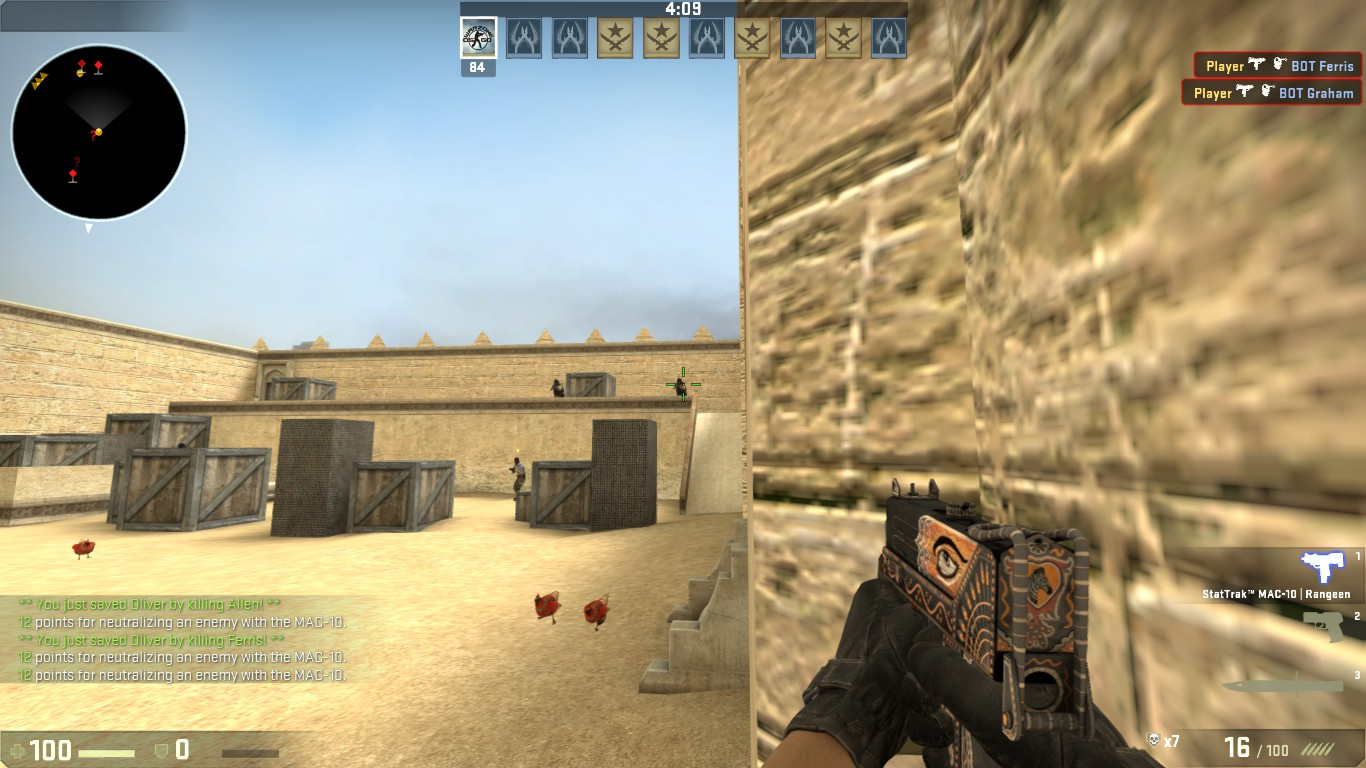c: (549, 378, 567, 398), (673, 378, 689, 396)
ch: (552, 378, 560, 387), (676, 377, 683, 385)
t: (510, 454, 526, 498)
th: (513, 455, 518, 466)
